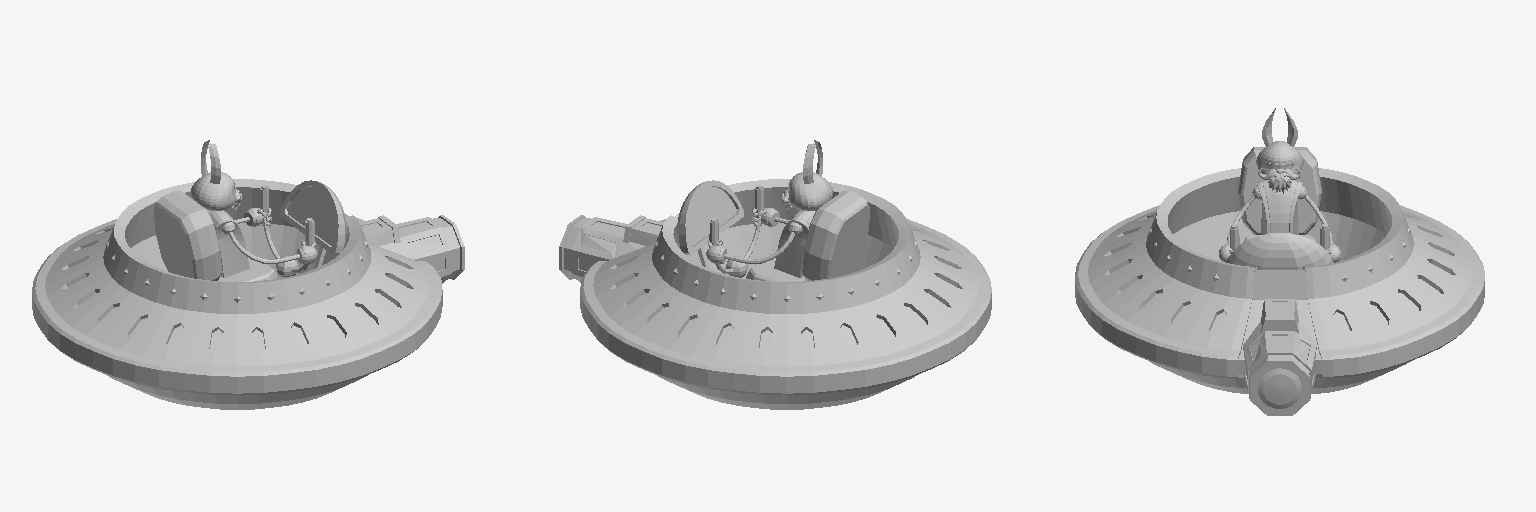
The model's file is SuperRare.obj.
3 renders of one model, left to right at view 1: azimuth 30°, elevation 25°; view 2: azimuth 150°, elevation 25°; view 3: azimuth 270°, elevation 25°, orthographic.
Parts seen in each view (by area): view 1: Final SuperRare1:pSphere1group8polySurface3polySurface1, Final SuperRare1:pSphere1group8group1pCube3, Final SuperRare1:pSphere1group8polySurface50pCylinder4, Final SuperRare1:pSphere1group8polySurface1pSphere3, Final SuperRare1:group8polySurface35group6, Final SuperRare1:group8group5polySurface8, Final SuperRare1:pSphere1group8pCylinder4polySurface51, Final SuperRare1:pSphere1group8pCube1group1; view 2: Final SuperRare1:pSphere1group8polySurface3polySurface1, Final SuperRare1:pSphere1group8group1pCube3, Final SuperRare1:pSphere1group8polySurface50pCylinder4, Final SuperRare1:pSphere1group8polySurface1pSphere3, Final SuperRare1:group8polySurface35group6, Final SuperRare1:group8group5polySurface8, Final SuperRare1:pSphere1group8pCylinder4polySurface51, Final SuperRare1:pSphere1group8pCube1group1; view 3: Final SuperRare1:pSphere1group8polySurface3polySurface1, Final SuperRare1:pSphere1group8polySurface50pCylinder4, Final SuperRare1:pSphere1group8polySurface1pSphere3, Final SuperRare1:pSphere1group8group1pCube3, Final SuperRare1:group8group5polySurface8, Final SuperRare1:group8polySurface35group6, Final SuperRare1:pSphere1group8pCylinder4polySurface51.
Boxes of the visible parts, box(x1,y1,x2,y2) form: Final SuperRare1:pSphere1group8polySurface3polySurface1: box(32, 179, 442, 409); Final SuperRare1:pSphere1group8group1pCube3: box(154, 191, 221, 280); Final SuperRare1:pSphere1group8polySurface50pCylinder4: box(379, 215, 464, 283); Final SuperRare1:pSphere1group8polySurface1pSphere3: box(280, 180, 346, 254); Final SuperRare1:group8polySurface35group6: box(191, 140, 235, 210); Final SuperRare1:group8group5polySurface8: box(208, 210, 249, 277); Final SuperRare1:pSphere1group8pCylinder4polySurface51: box(359, 215, 400, 246); Final SuperRare1:pSphere1group8pCube1group1: box(218, 251, 277, 281); Final SuperRare1:pSphere1group8polySurface3polySurface1: box(580, 179, 991, 409); Final SuperRare1:pSphere1group8group1pCube3: box(802, 191, 869, 280); Final SuperRare1:pSphere1group8polySurface50pCylinder4: box(559, 215, 645, 282); Final SuperRare1:pSphere1group8polySurface1pSphere3: box(677, 180, 743, 254); Final SuperRare1:group8polySurface35group6: box(788, 140, 832, 210); Final SuperRare1:group8group5polySurface8: box(774, 210, 815, 277); Final SuperRare1:pSphere1group8pCylinder4polySurface51: box(623, 215, 663, 245); Final SuperRare1:pSphere1group8pCube1group1: box(746, 251, 805, 281); Final SuperRare1:pSphere1group8polySurface3polySurface1: box(1075, 168, 1484, 393); Final SuperRare1:pSphere1group8polySurface50pCylinder4: box(1243, 321, 1316, 415); Final SuperRare1:pSphere1group8polySurface1pSphere3: box(1226, 233, 1333, 269); Final SuperRare1:pSphere1group8group1pCube3: box(1238, 147, 1321, 234); Final SuperRare1:group8group5polySurface8: box(1257, 180, 1302, 234); Final SuperRare1:group8polySurface35group6: box(1256, 108, 1303, 173); Final SuperRare1:pSphere1group8pCylinder4polySurface51: box(1261, 299, 1298, 333).
Size of the model in its own units: 19.2 by 11.72 by 17.38.